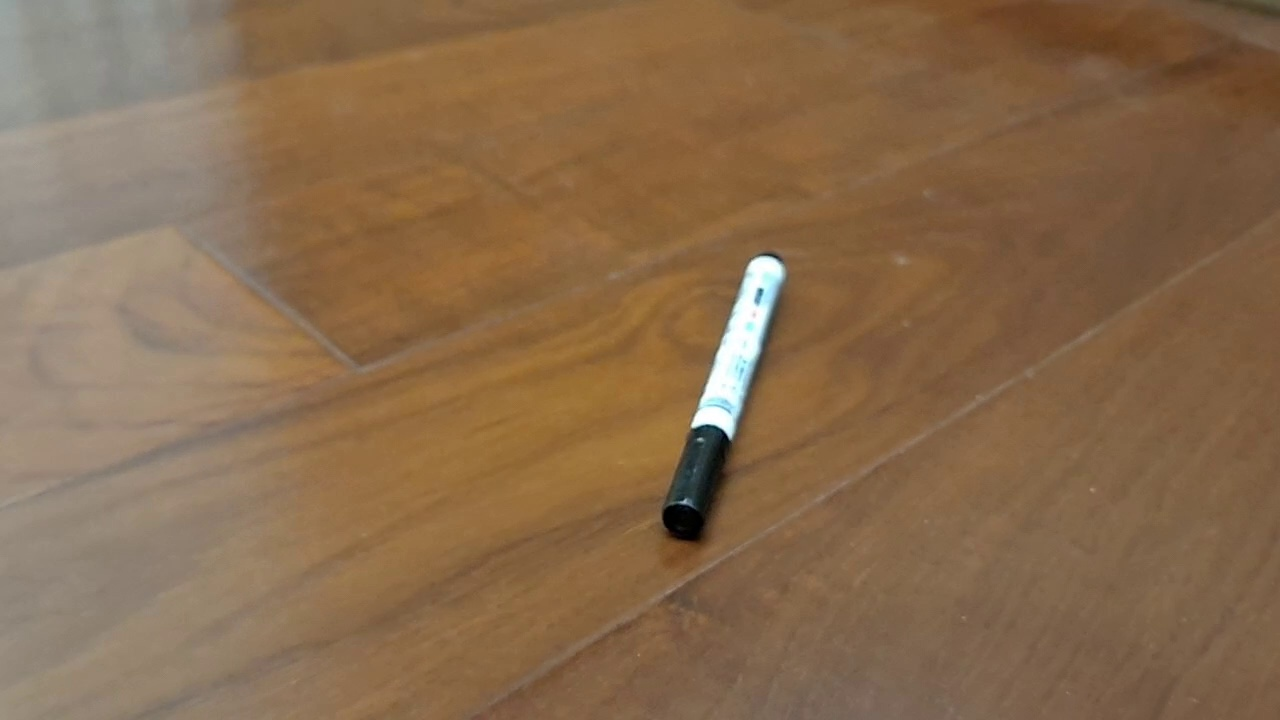pen: (662, 252, 788, 542)
